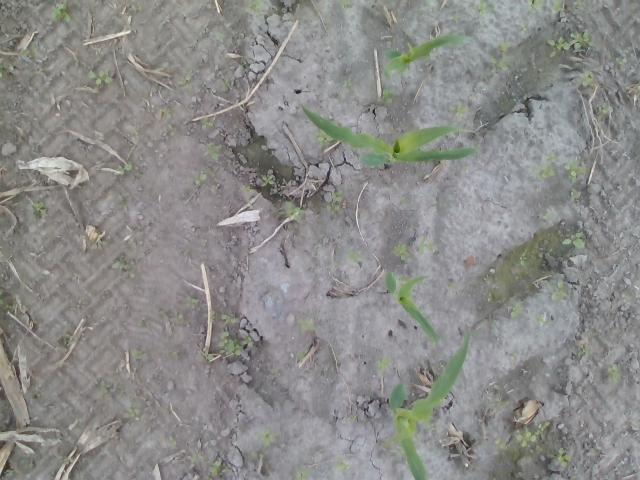Maize: (300, 101, 480, 168), (388, 331, 470, 478), (384, 268, 440, 346), (382, 33, 473, 74)
Weeds: (494, 422, 546, 455), (536, 154, 586, 184), (546, 32, 592, 58), (392, 240, 432, 260), (488, 40, 512, 72), (216, 330, 242, 356), (51, 1, 74, 26), (526, 0, 561, 15), (559, 230, 584, 250), (87, 69, 114, 86), (552, 276, 568, 301), (550, 448, 572, 466), (324, 192, 342, 214), (245, 0, 265, 18), (284, 200, 304, 218), (607, 364, 622, 386), (207, 143, 224, 161), (382, 88, 399, 106), (298, 317, 316, 334), (474, 0, 493, 16), (314, 130, 332, 146), (519, 247, 530, 273), (260, 430, 274, 450), (294, 463, 310, 480), (32, 201, 48, 217), (578, 72, 593, 88), (448, 103, 464, 118), (132, 350, 149, 364), (375, 356, 392, 370), (50, 94, 64, 111), (118, 162, 134, 176), (184, 294, 198, 310), (510, 302, 524, 318), (112, 259, 130, 270), (208, 462, 222, 476), (598, 103, 613, 116), (571, 0, 583, 16), (176, 74, 192, 86), (343, 249, 359, 261), (392, 447, 404, 462), (194, 171, 206, 186), (534, 312, 546, 326), (222, 313, 236, 325), (58, 334, 74, 344), (200, 350, 212, 363), (336, 459, 350, 470), (166, 434, 176, 449), (100, 382, 112, 394), (127, 407, 140, 418), (487, 291, 498, 303), (262, 175, 274, 186), (570, 190, 582, 200), (520, 23, 530, 35), (616, 55, 626, 66), (202, 120, 214, 129), (339, 0, 351, 9), (542, 212, 554, 221), (250, 451, 265, 458), (192, 454, 202, 464), (244, 336, 254, 346), (496, 399, 510, 406), (580, 343, 590, 352), (296, 352, 307, 360), (95, 239, 104, 248), (0, 288, 5, 304), (240, 186, 253, 192), (448, 16, 459, 23), (270, 367, 280, 374), (0, 63, 4, 80), (168, 351, 176, 359), (343, 80, 352, 87), (166, 112, 173, 120), (222, 80, 229, 88), (447, 282, 456, 288), (175, 315, 182, 322), (217, 32, 225, 38), (591, 447, 600, 452)
